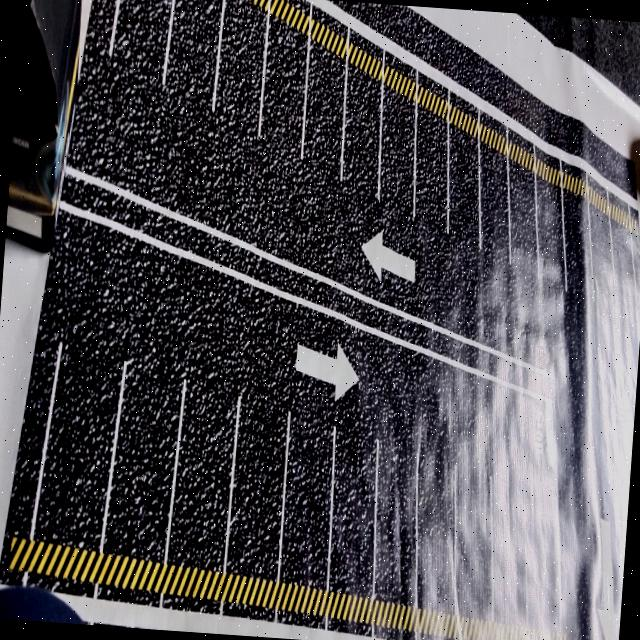others: (5, 0, 81, 251), (630, 138, 640, 195)
slots: (35, 279, 123, 549), (103, 360, 183, 560), (168, 382, 236, 570), (226, 385, 288, 579), (280, 409, 333, 588), (257, 18, 306, 204), (374, 413, 414, 605), (330, 428, 375, 595), (213, 0, 265, 136), (455, 463, 497, 618), (417, 459, 456, 617), (165, 0, 222, 108), (380, 80, 415, 250), (493, 480, 531, 625), (304, 44, 344, 180), (508, 129, 544, 275), (343, 66, 379, 208), (112, 0, 170, 85), (586, 172, 620, 303), (415, 104, 447, 236), (534, 166, 567, 286), (563, 184, 596, 302), (449, 123, 478, 250), (480, 142, 509, 268), (609, 205, 638, 312)
